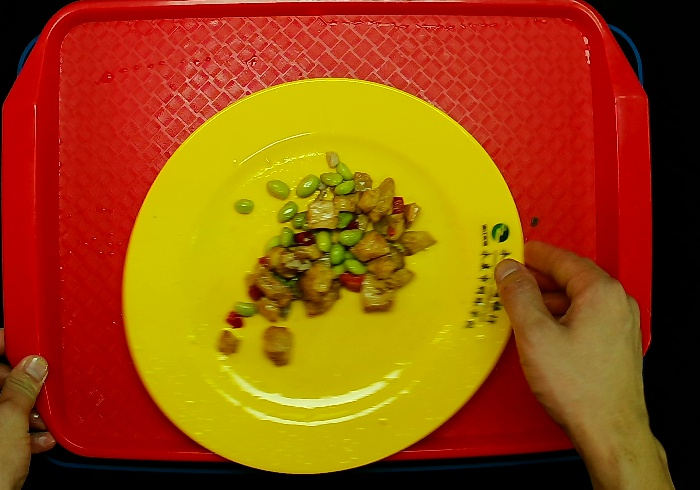YKMZ-Huang_Se_Mian_Pan: (115, 73, 530, 483)
